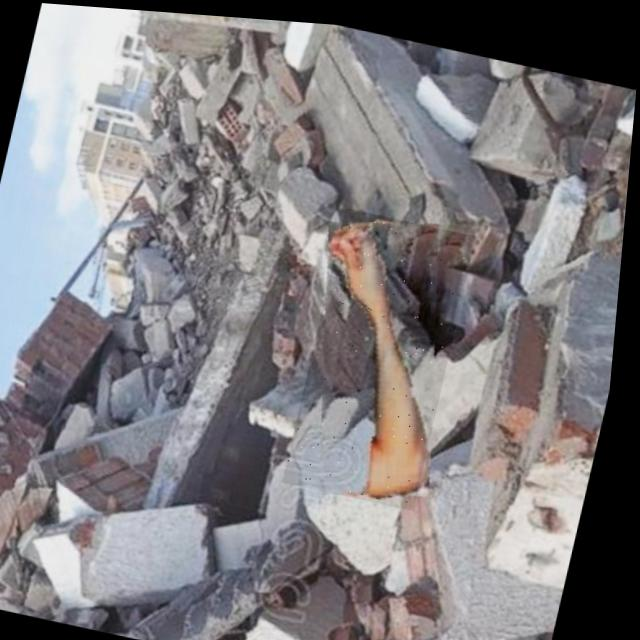Person in Rubble: (289, 199, 482, 505)
